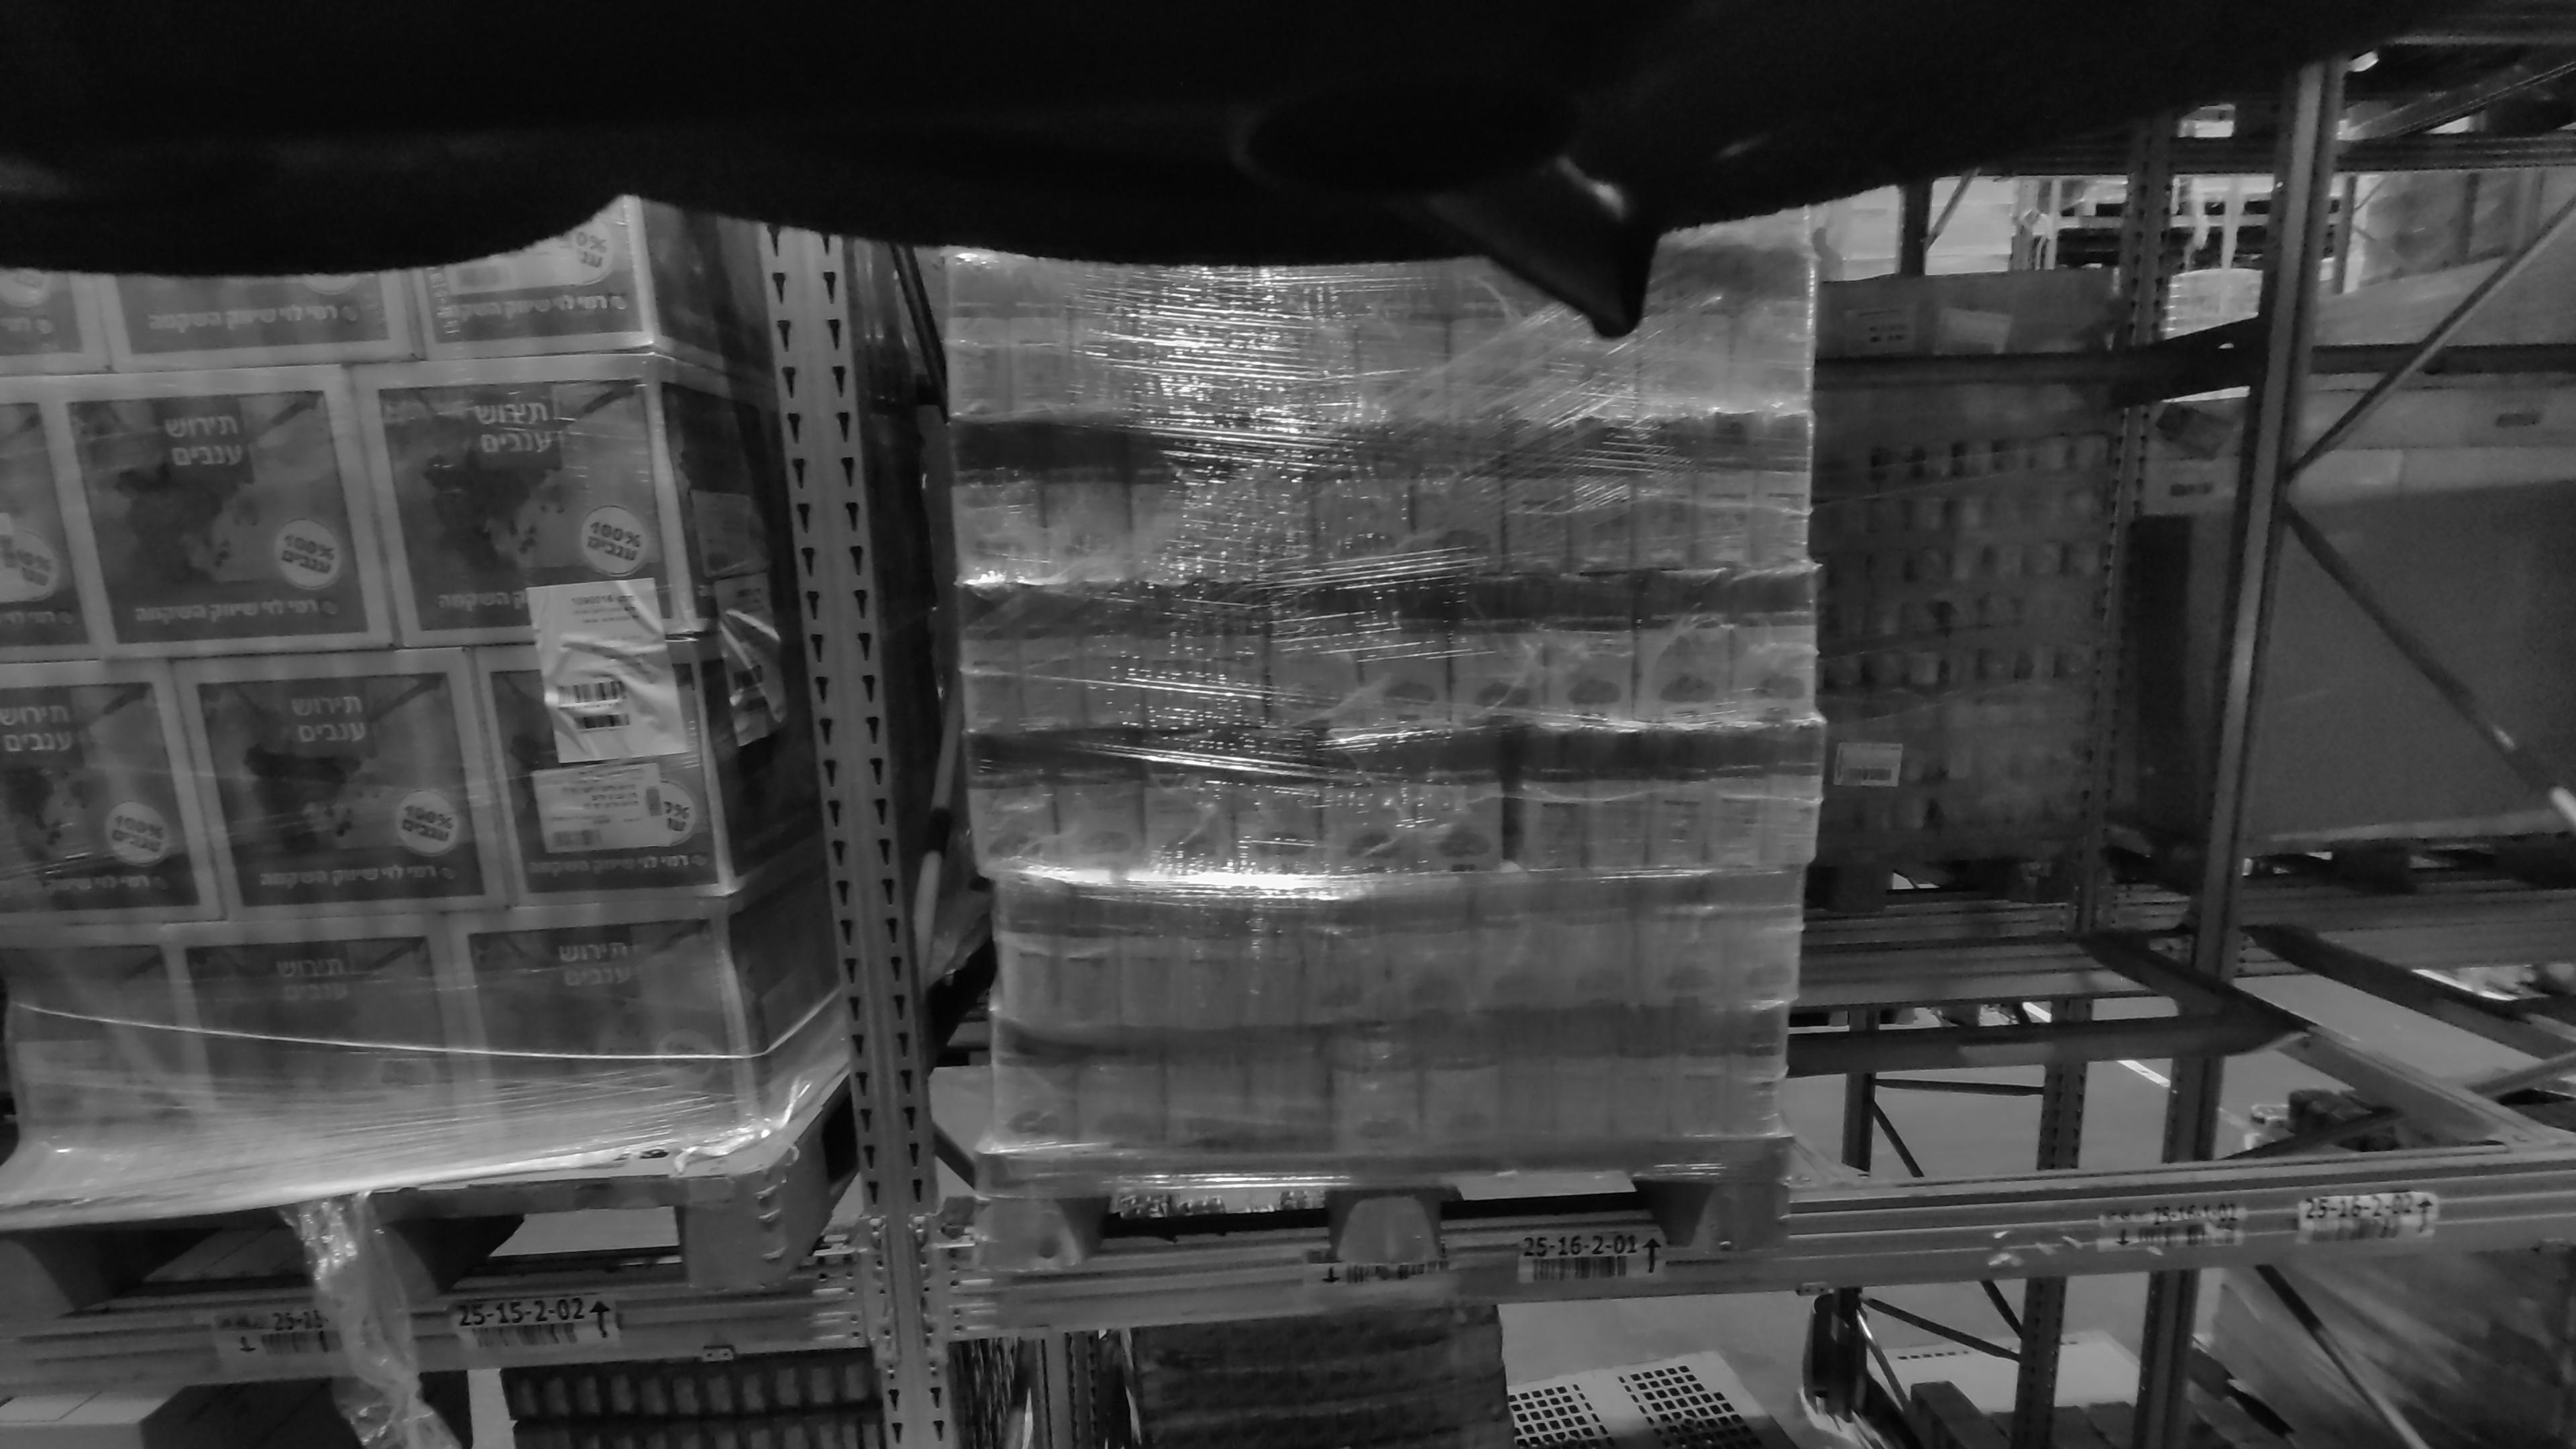empty-shelf: (1849, 103, 2500, 1150)
